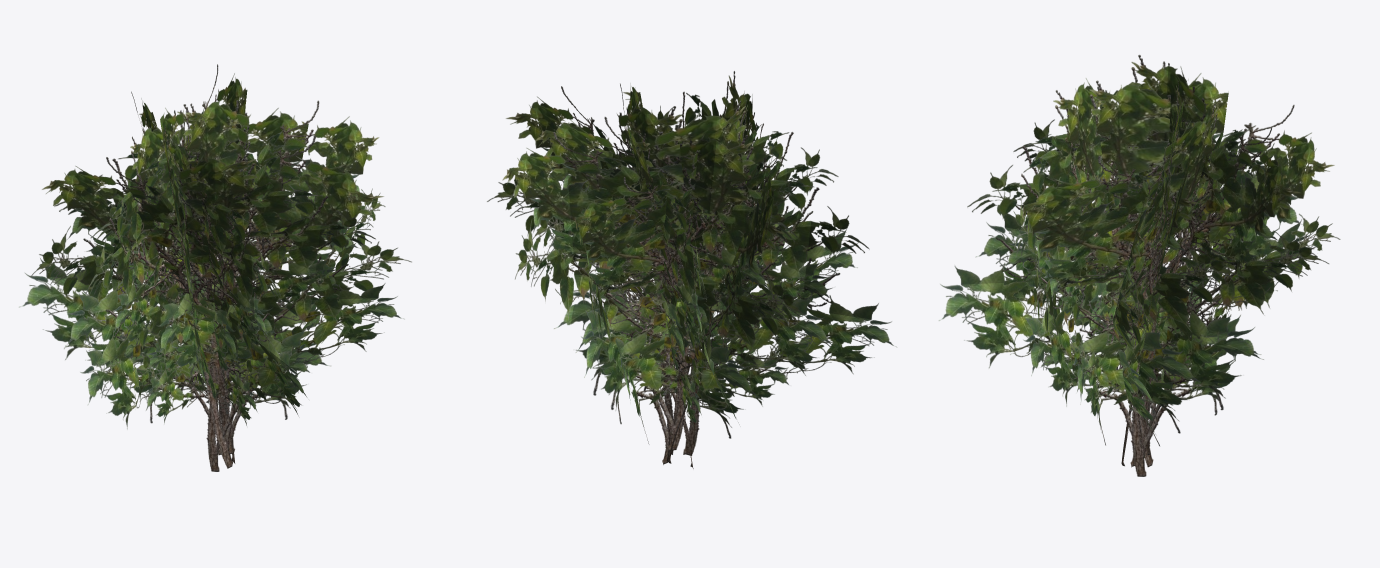
File: bush.glb
The picture shows the model from 3 angles, left to right: view 1: azimuth 30°, elevation 25°; view 2: azimuth 150°, elevation 25°; view 3: azimuth 270°, elevation 25°; orthographic projection. The views are drawn at different scales.
Parts seen in each view (by area): view 1: Bush; view 2: Bush; view 3: Bush.
Part boxes in pixels (box(x1,y1,x2,y2)): Bush: box(19, 64, 411, 471); Bush: box(487, 71, 896, 468); Bush: box(939, 55, 1340, 476).
Size of the model in its own units: 1.08 by 1.1 by 1.06.
1 material, 1 textured.
